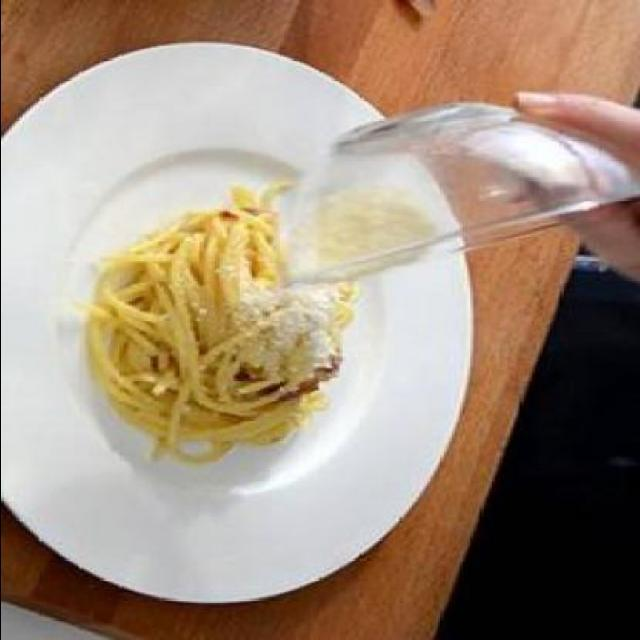Oil pasta: (108, 223, 346, 483)
